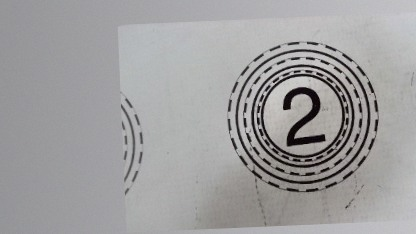2r: (219, 40, 380, 195)
